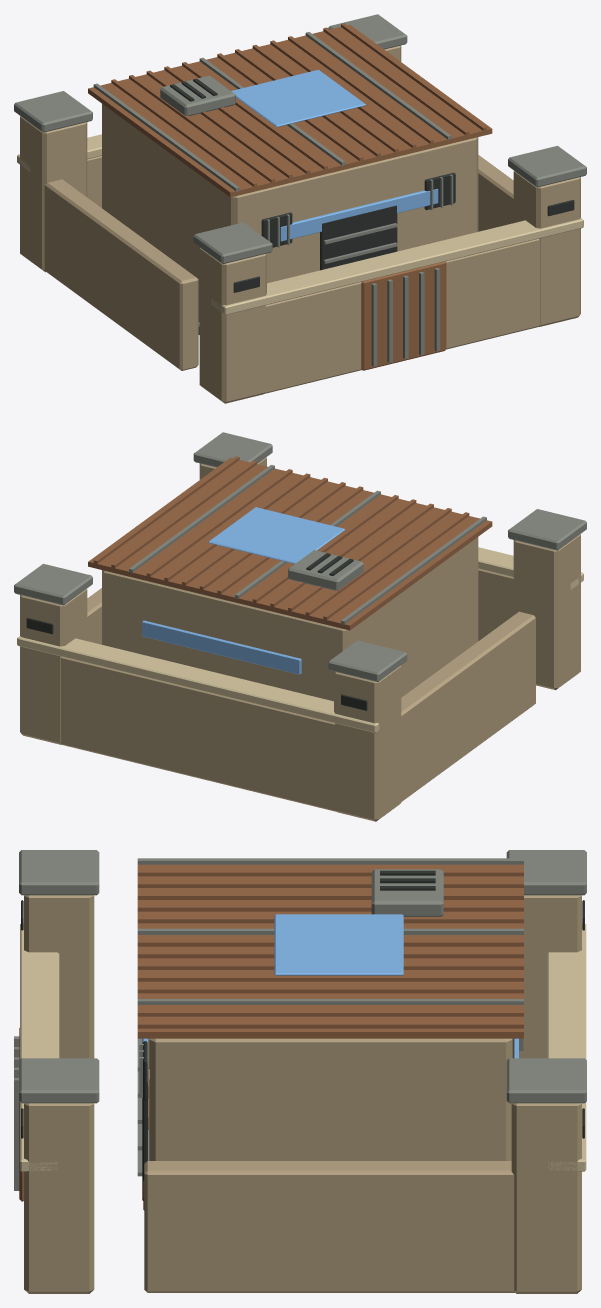
File: compound.glb
3 views of the same model, one above another, from view 1: azimuth 30°, elevation 25°; view 2: azimuth 150°, elevation 25°; view 3: azimuth 270°, elevation 25° (orthographic). The views are drawn at different scales.
Parts seen in each view (by area): view 1: compound; view 2: compound; view 3: compound.
Boxes of the visible parts, bbox=[...] form: compound: bbox=[14, 14, 586, 403]; compound: bbox=[14, 432, 586, 821]; compound: bbox=[14, 850, 586, 1293].
Size of the model in its own units: 3.5 by 1.7 by 3.5.
